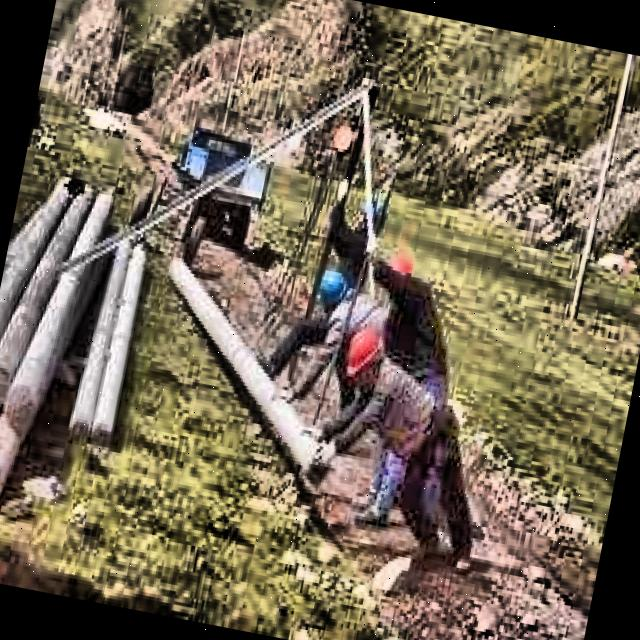helmet: (339, 321, 388, 398), (314, 266, 355, 314)
